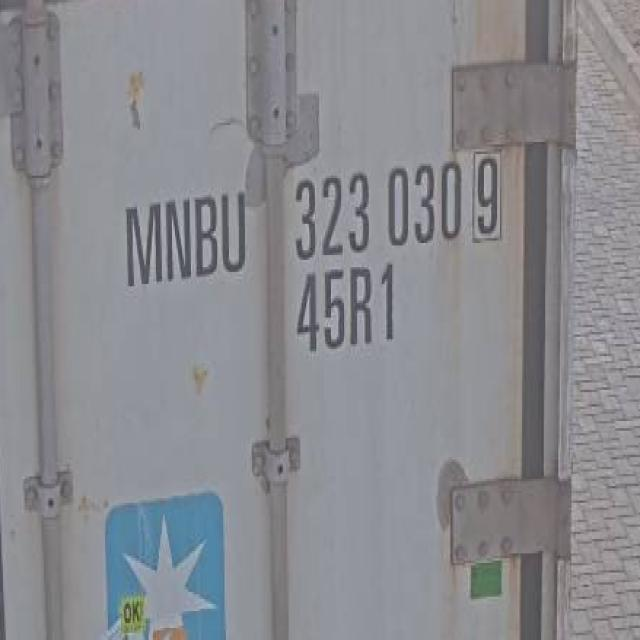dv: (467, 142, 505, 254)
owner: (115, 174, 254, 292)
serial: (289, 148, 467, 265)
size: (286, 262, 413, 356)
